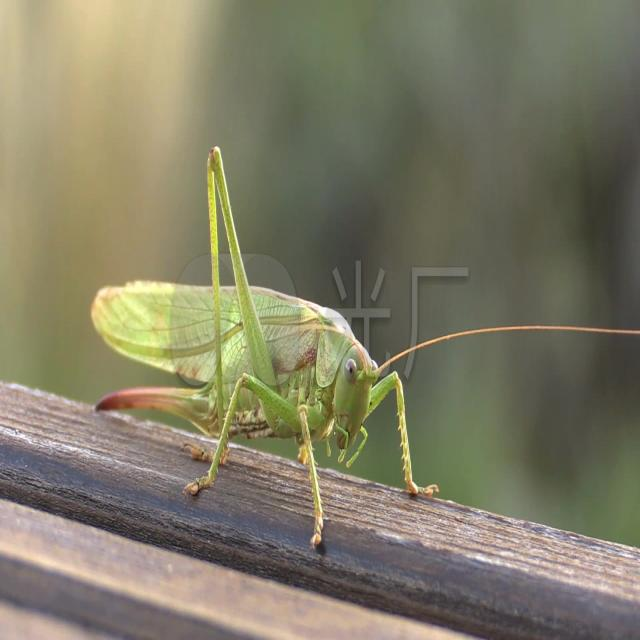ZhaMeng: (76, 142, 477, 566)
